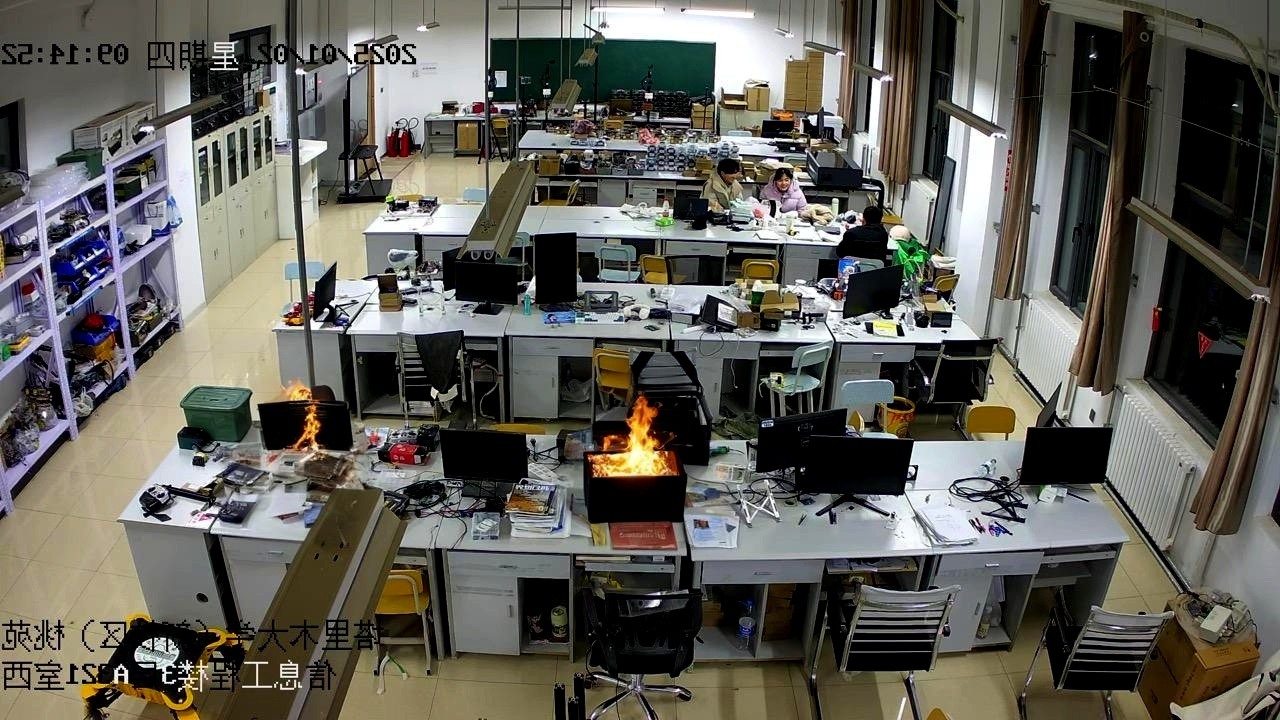fire: (583, 397, 672, 512), (269, 381, 326, 460)
